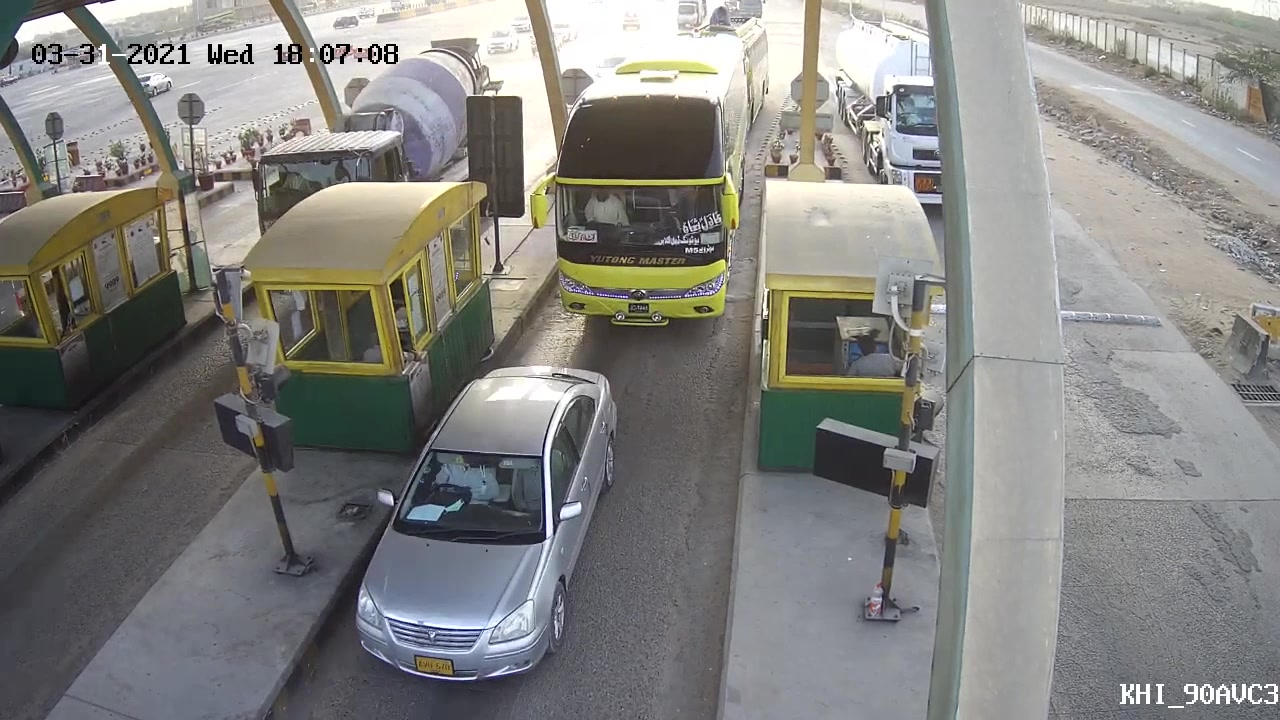F1: (335, 361, 625, 687)
F4: (521, 67, 769, 333)
